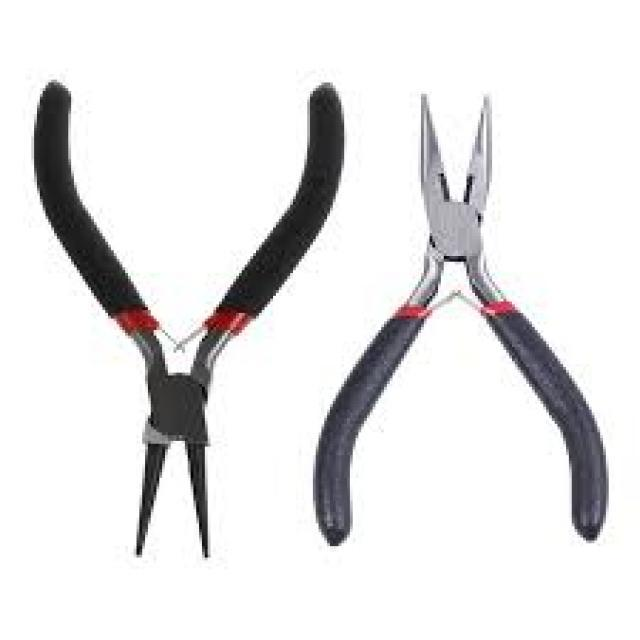pliers: (23, 75, 354, 573), (302, 85, 618, 553)
